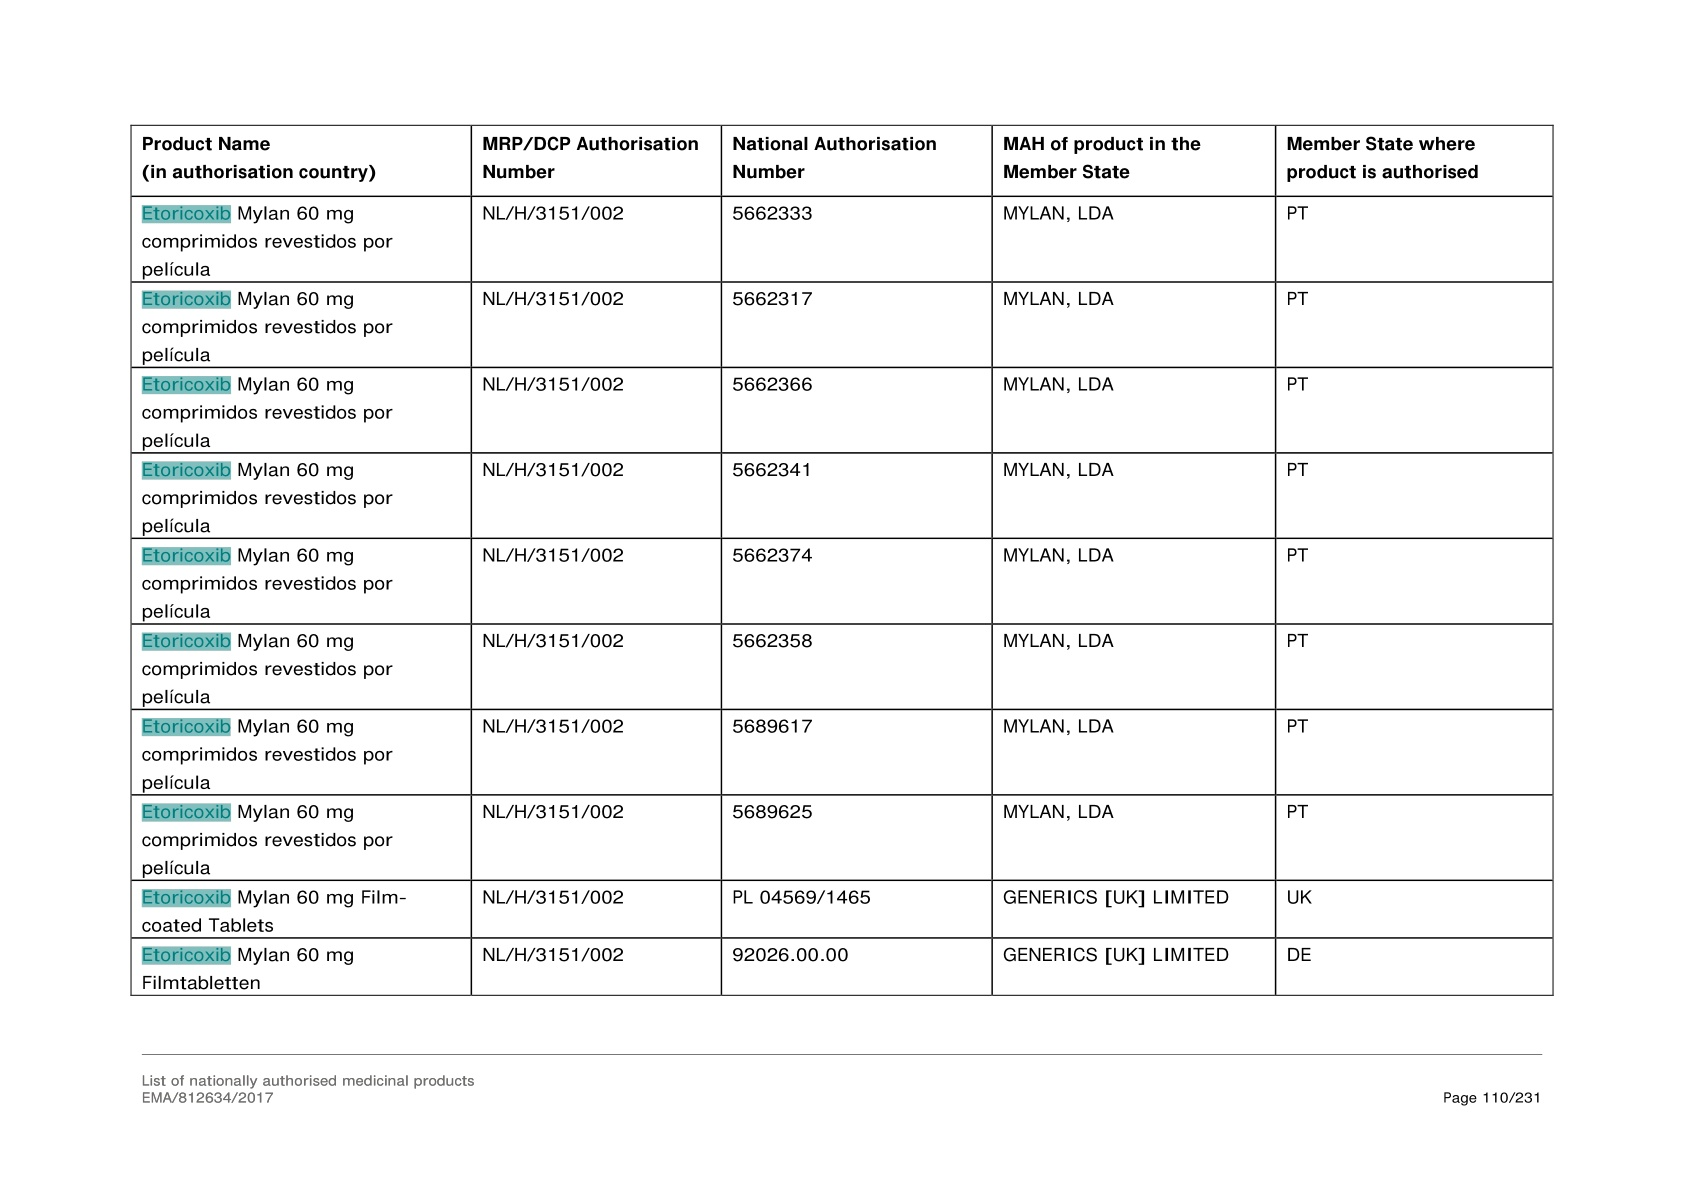full_lined: (130, 122, 1554, 996)
